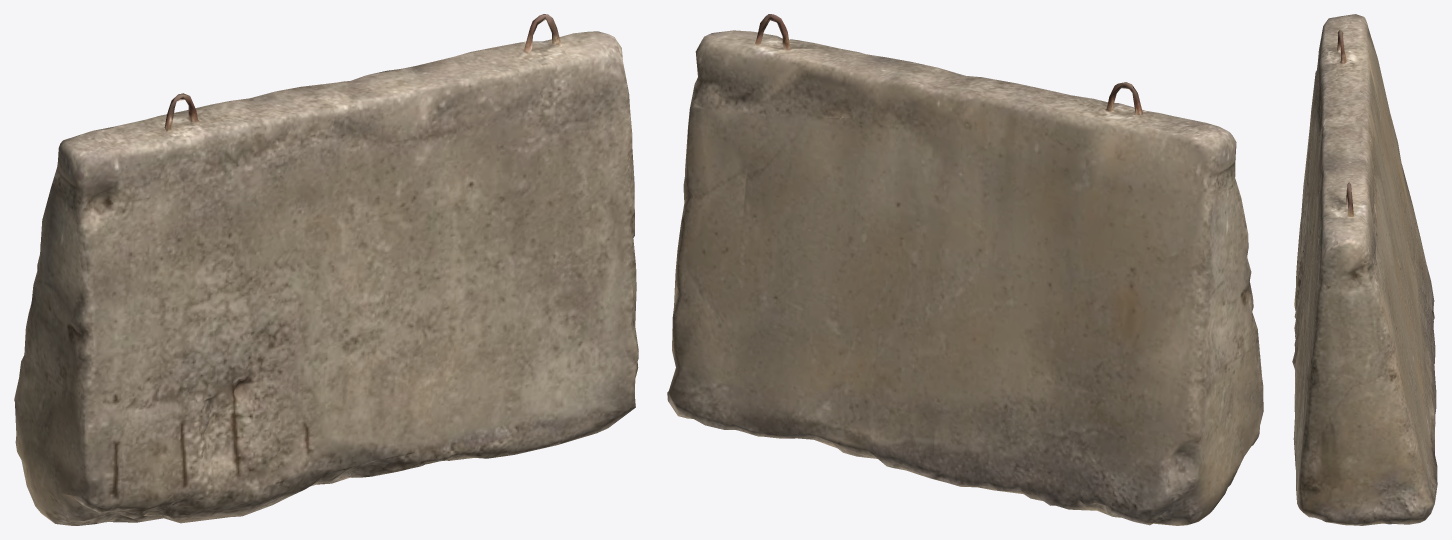
File: barrier.glb
3 renders of one model, left to right at view 1: azimuth 30°, elevation 25°; view 2: azimuth 150°, elevation 25°; view 3: azimuth 270°, elevation 25°, orthographic. The views are drawn at different scales.
Parts seen in each view (by area): view 1: concrete_road_barrier_02; view 2: concrete_road_barrier_02; view 3: concrete_road_barrier_02.
Part boxes in pixels (left/top/right/bottom): concrete_road_barrier_02: left=14, top=14, right=638, bottom=525; concrete_road_barrier_02: left=667, top=14, right=1263, bottom=525; concrete_road_barrier_02: left=1292, top=14, right=1437, bottom=525.
Size of the model in its own units: 1.56 by 1.11 by 0.4417.
Materials: 1 (1 with a texture image).
